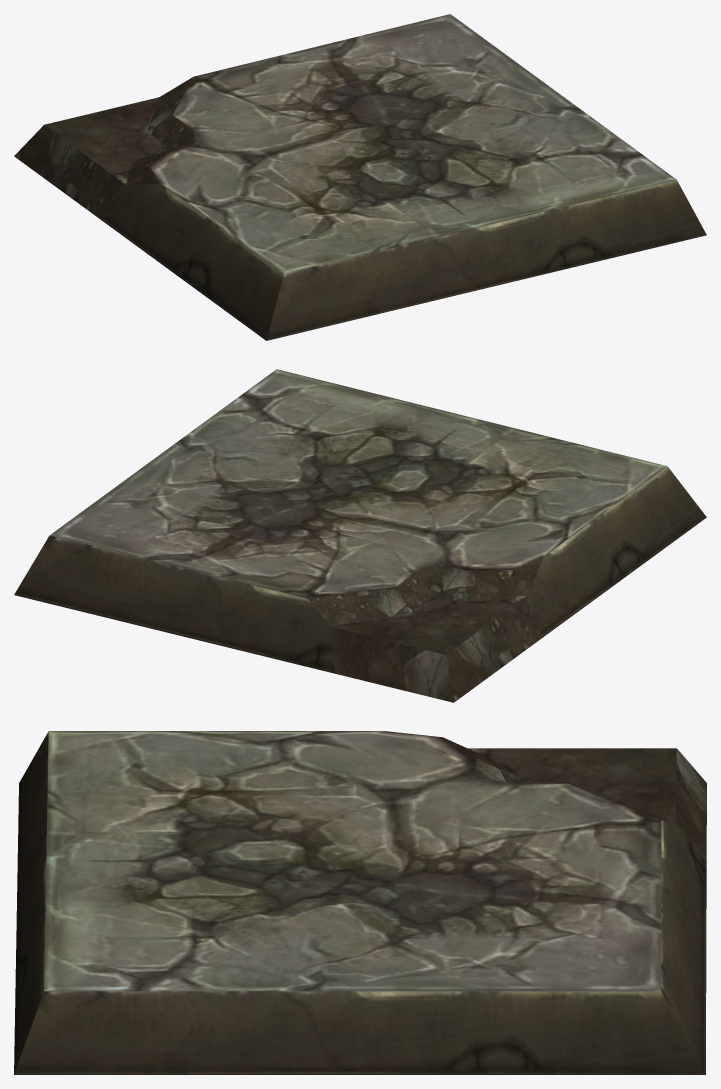
File: F_dizhuan002.fbx
3 views of the same model, one above another, from view 1: azimuth 30°, elevation 25°; view 2: azimuth 150°, elevation 25°; view 3: azimuth 270°, elevation 25° (orthographic). The views are drawn at different scales.
Parts seen in each view (by area): view 1: F_dizhuan002; view 2: F_dizhuan002; view 3: F_dizhuan002.
Part boxes in pixels (x1,y1,x2,y2): F_dizhuan002: [14, 14, 706, 340]; F_dizhuan002: [14, 369, 706, 702]; F_dizhuan002: [14, 731, 706, 1074].
Bounding box in the file's own units: 118 × 13.38 × 118.
